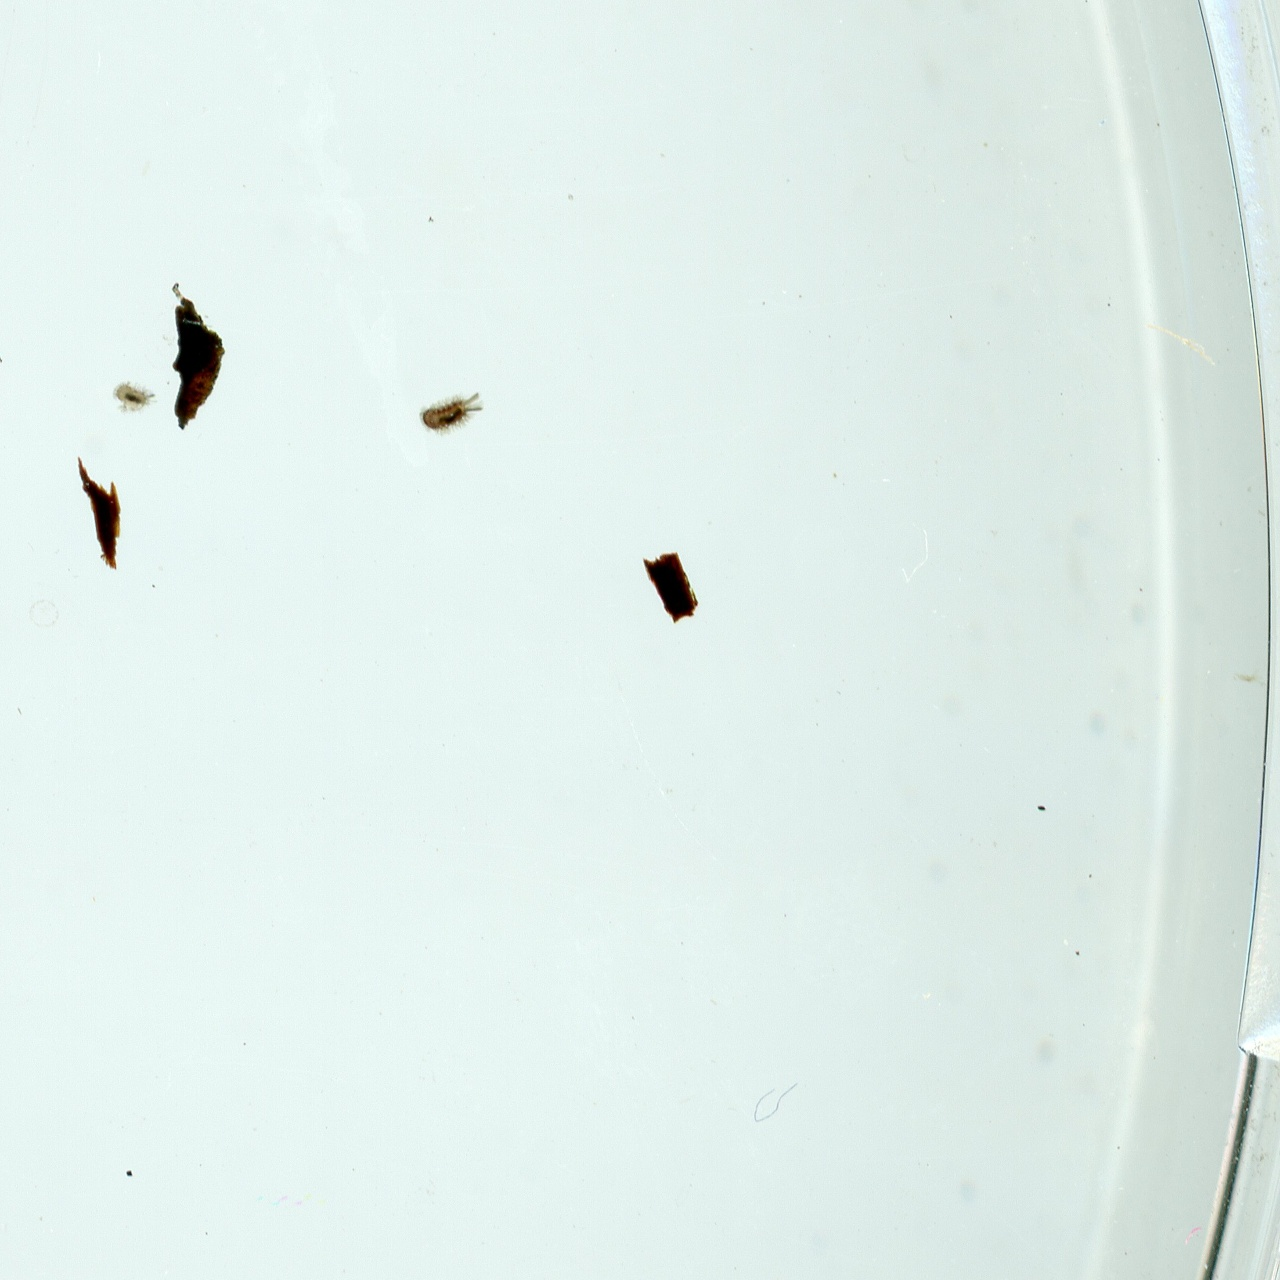arthropod: (407, 377, 497, 448), (108, 376, 164, 419)
